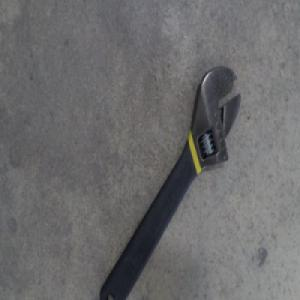AdjustableWrench: (99, 68, 243, 299)
